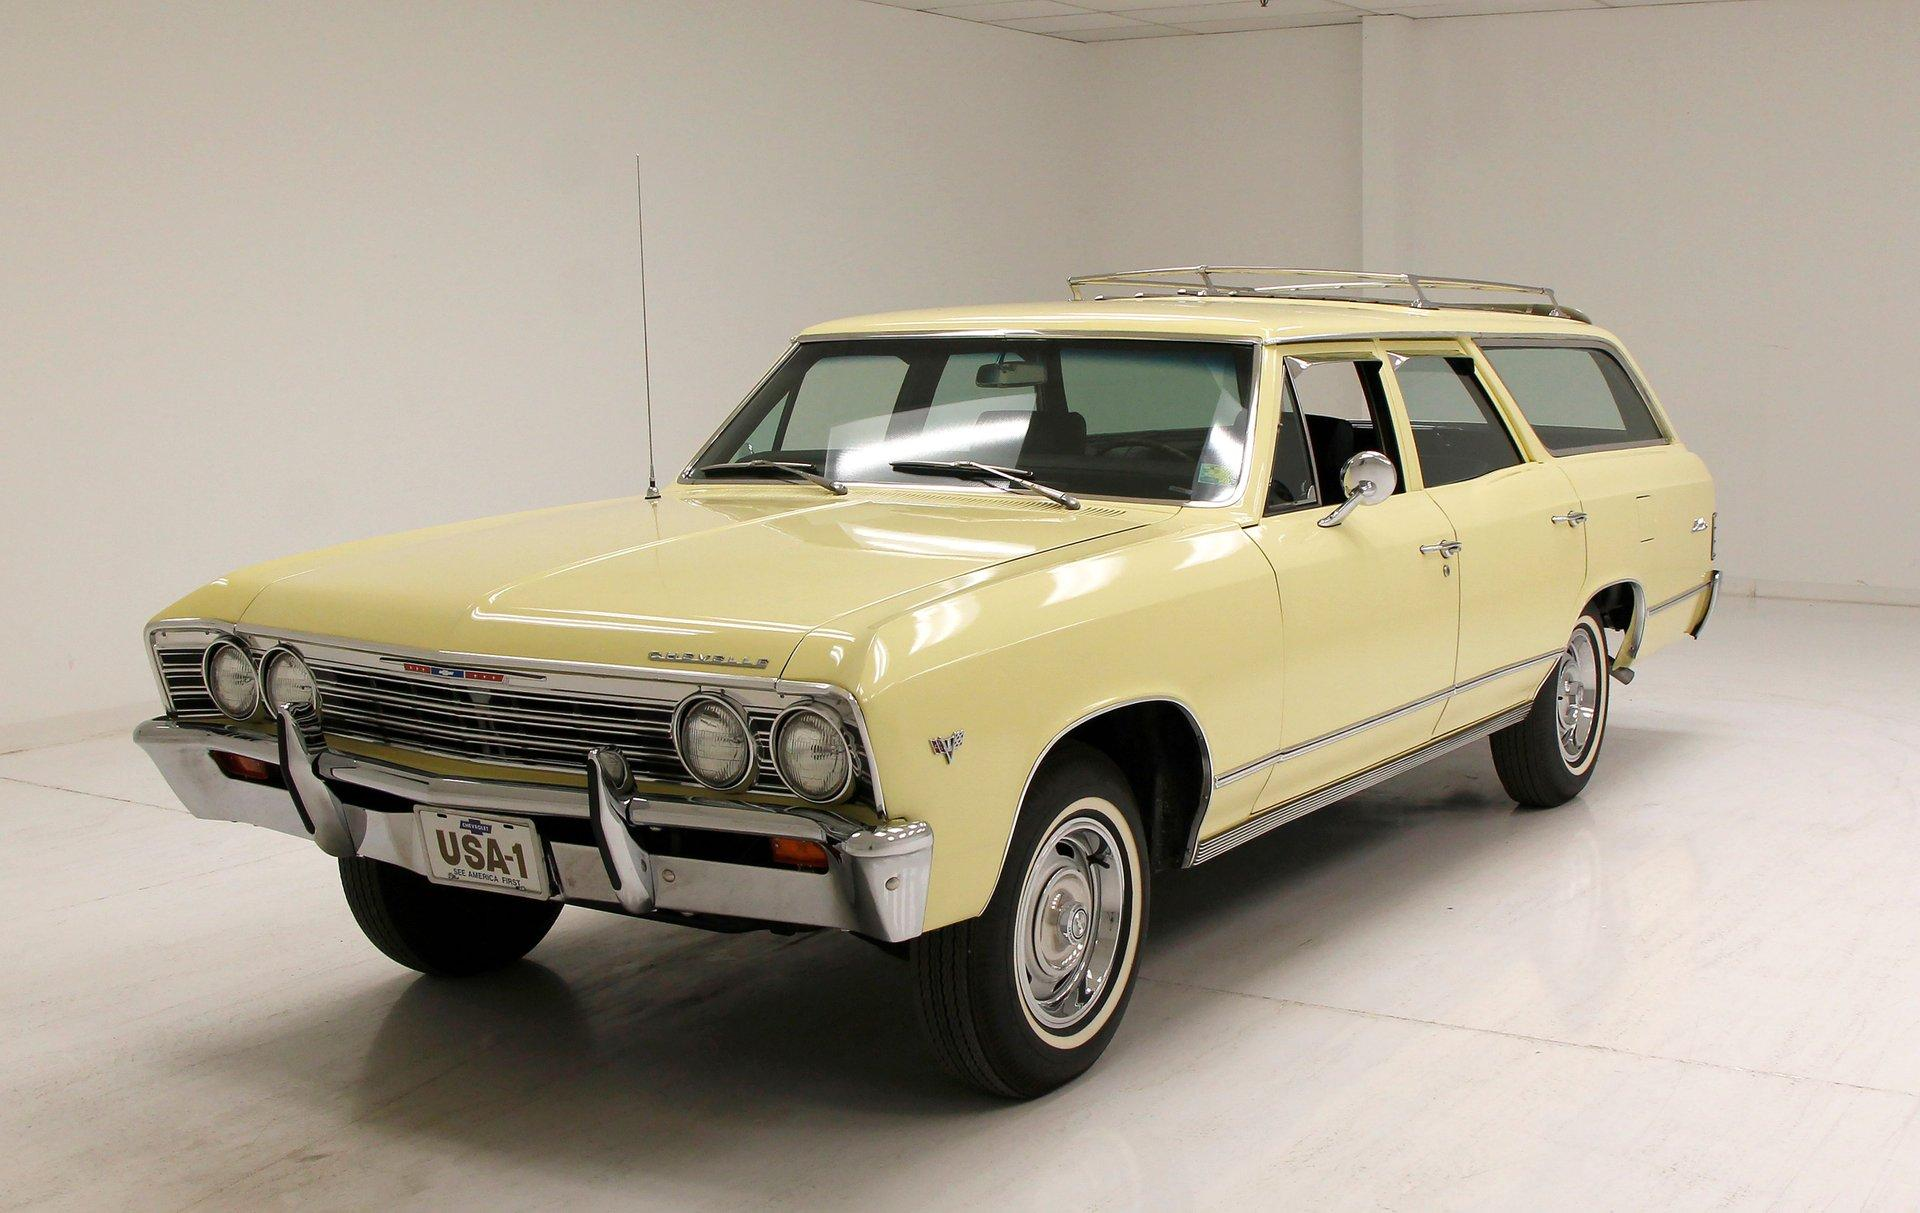car: (140, 289, 1741, 1093)
